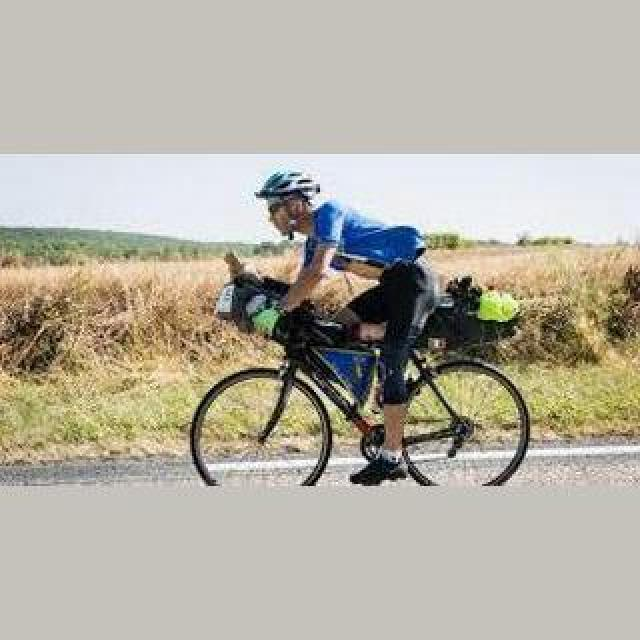MC-Bike: (234, 164, 438, 488)
Person: (187, 282, 531, 486)
